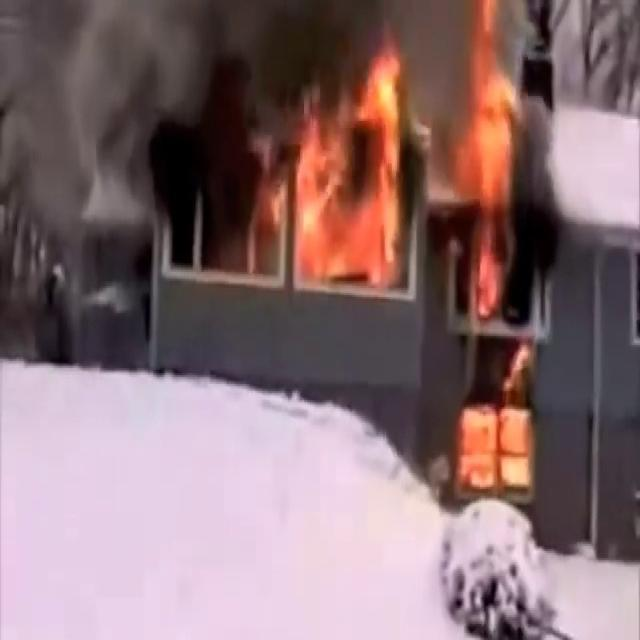Fire: (276, 39, 416, 297), (466, 4, 528, 306)
Smoke: (0, 0, 251, 240)
